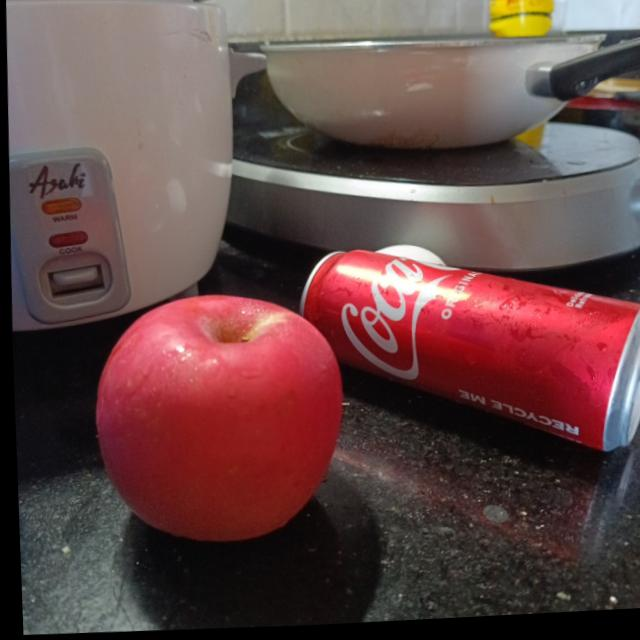apple: (85, 283, 346, 545)
coke: (287, 234, 640, 467)
